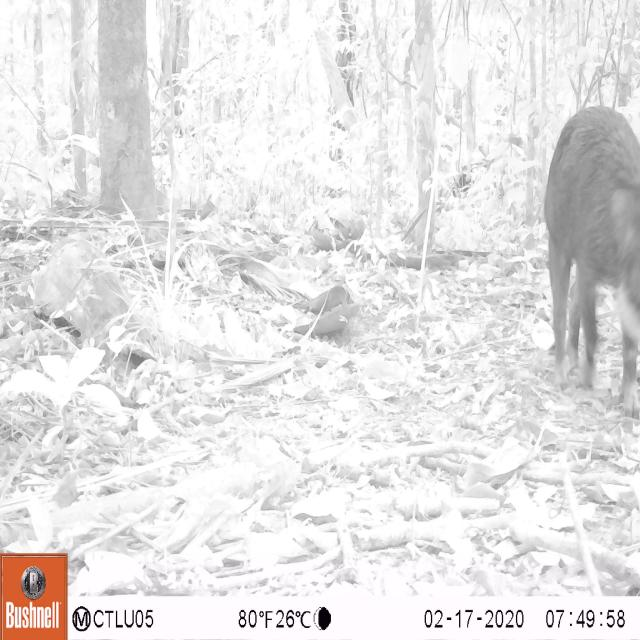White-lipped Peccary: (545, 105, 640, 423)
